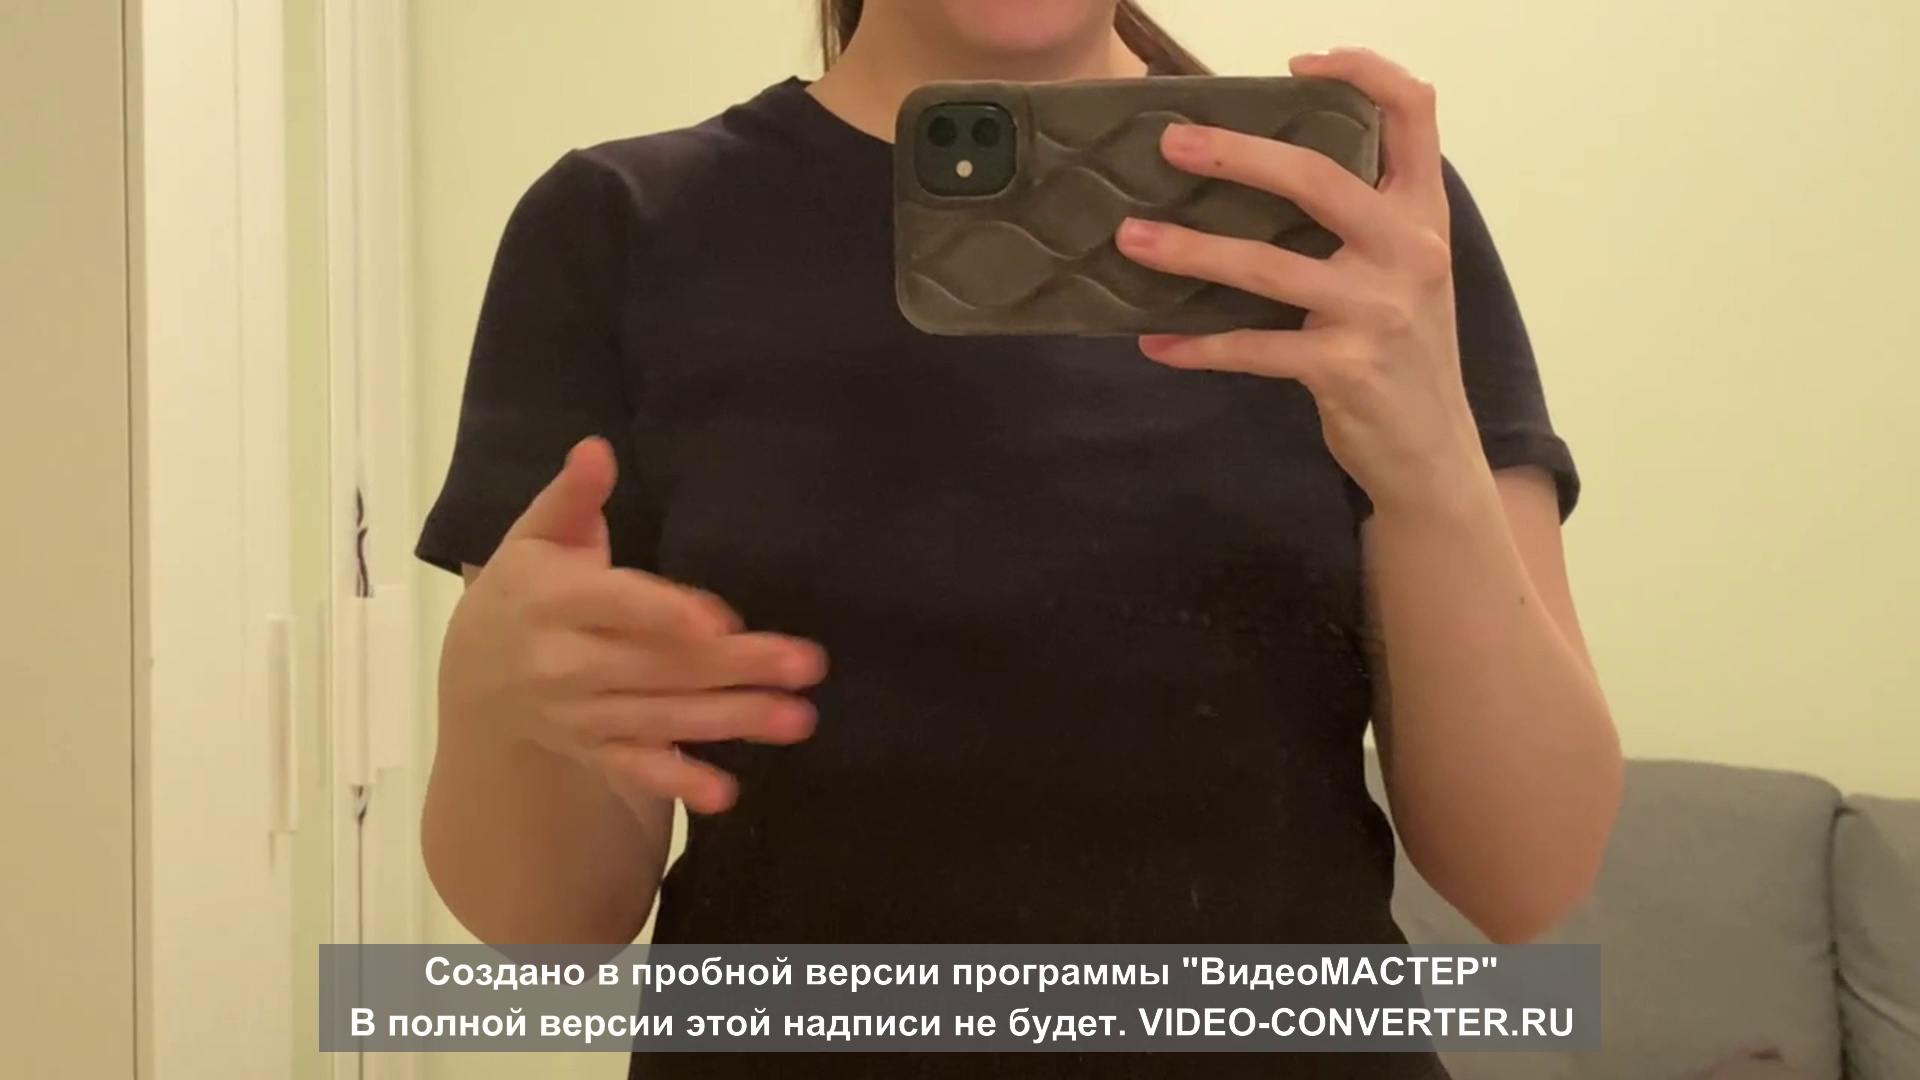Кисть: (440, 434, 822, 818)
